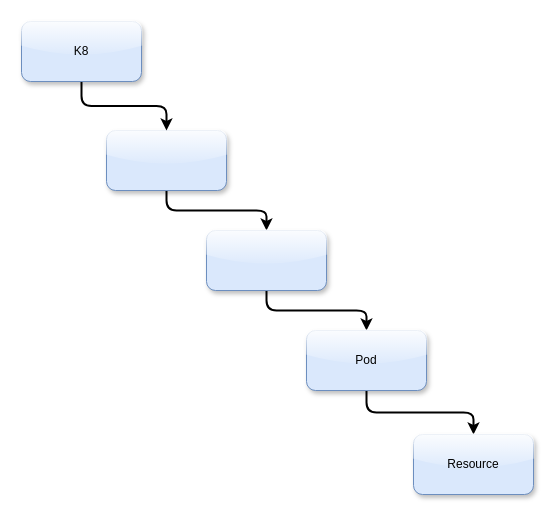
Some shapes in this 557 by 519 pixel diagram are drawn without their labels. The centre of each missing label's shape, as x and y in pixels:
"Deployment" goes at (x=267, y=262).
"Namespace" goes at (x=167, y=162).
